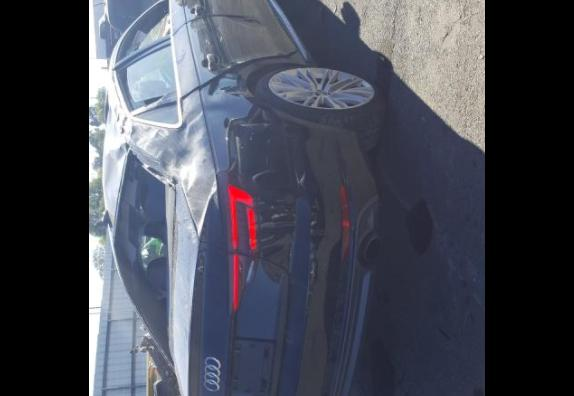Broken part: (181, 44, 302, 104), (126, 143, 178, 187), (113, 34, 170, 73)
Dent: (104, 64, 218, 236), (209, 50, 297, 100), (261, 176, 298, 282)
Missing part: (114, 149, 169, 356), (117, 0, 170, 58), (232, 339, 271, 392)
